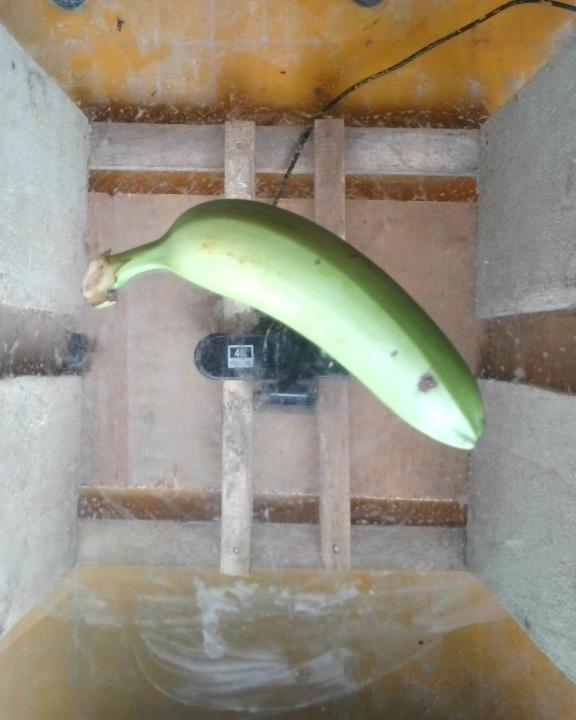CLASS B: (71, 193, 504, 453)
Class A: (404, 363, 455, 406)
